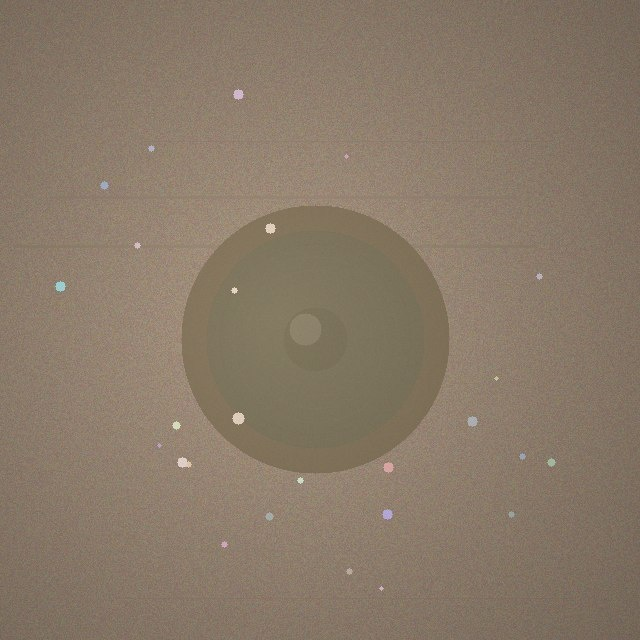overburn: (181, 205, 449, 473)
